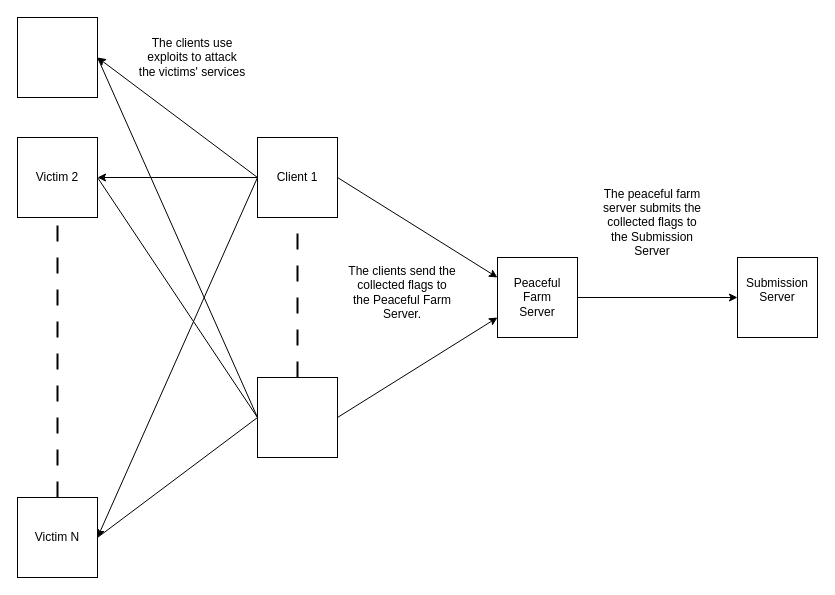
Image size: 835x595. Some labels were removed from this diagram. Here are the shapes that lost their labels. From the top down, the centre of each, then its label:
At point 57,57: "Victim 1".
At point 297,417: "Client N".
